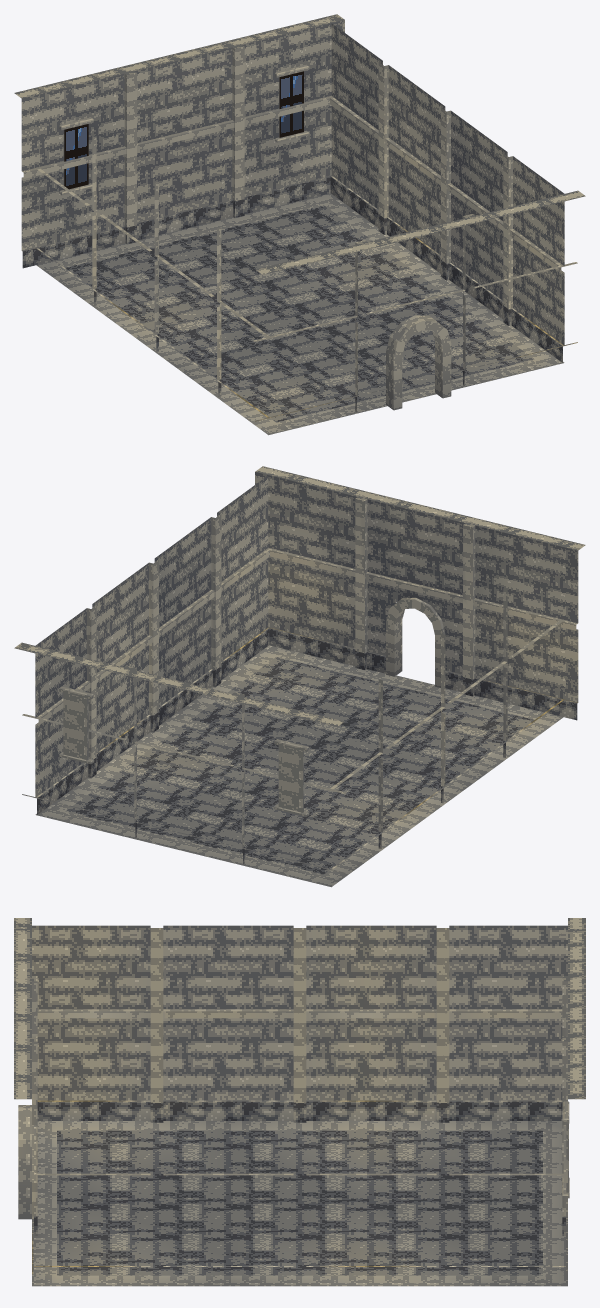
The model's file is cst.hall.glb.
3 renders of one model, top to bottom at view 1: azimuth 30°, elevation 25°; view 2: azimuth 150°, elevation 25°; view 3: azimuth 270°, elevation 25°, orthographic. The views are drawn at different scales.
Visible parts, largest first — view 1: kit_shell_walls, kit_shell_floor, kit_fittings; view 2: kit_shell_walls, kit_shell_floor, kit_fittings; view 3: kit_shell_walls, kit_shell_floor, kit_fittings.
Part boxes in pixels (<box>): kit_shell_walls: <box>14,14,585,421</box>; kit_shell_floor: <box>36,193,564,435</box>; kit_fittings: <box>59,64,451,410</box>; kit_shell_walls: <box>14,466,585,873</box>; kit_shell_floor: <box>35,645,563,887</box>; kit_fittings: <box>59,598,445,816</box>; kit_shell_walls: <box>14,918,585,1274</box>; kit_shell_floor: <box>32,1121,567,1286</box>; kit_fittings: <box>18,1101,569,1219</box>.
Size of the model in its own units: 12 by 6 by 16.
Materials: 5 (5 with a texture image).
